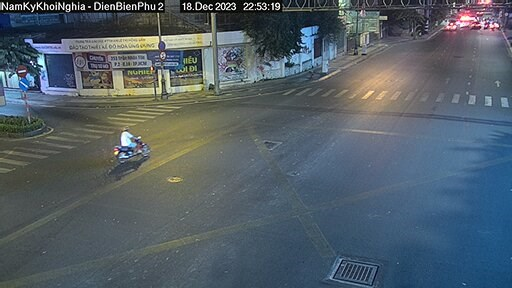motorbike: (111, 126, 155, 165)
